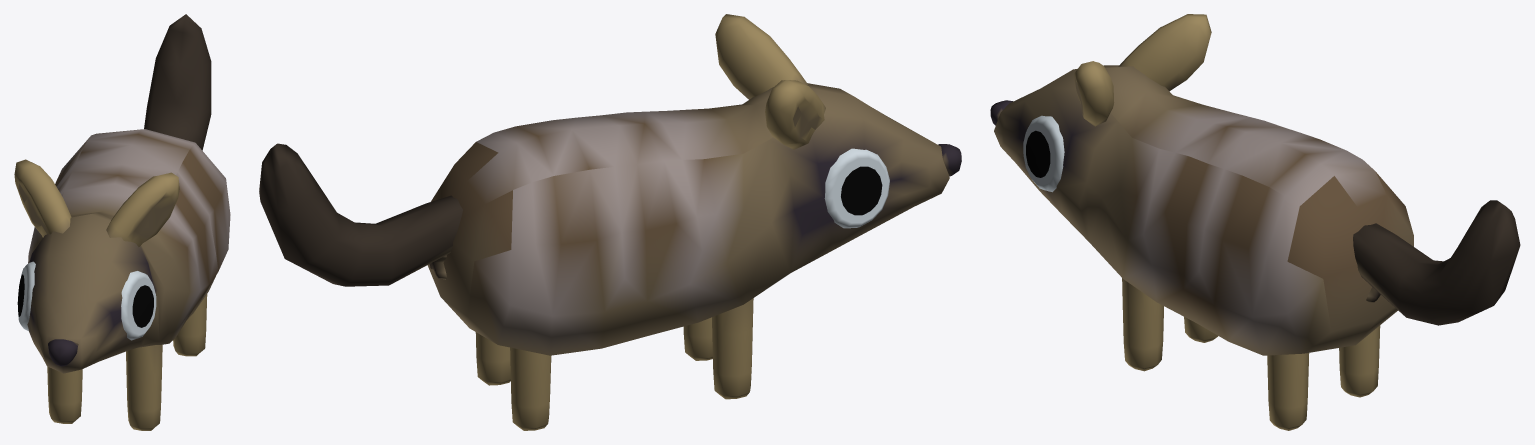
The model's file is Numbat.glb.
3 renders of one model, left to right at view 1: azimuth 30°, elevation 25°; view 2: azimuth 150°, elevation 25°; view 3: azimuth 270°, elevation 25°, orthographic. The views are drawn at different scales.
Parts seen in each view (by area): view 1: 109; view 2: 109; view 3: 109.
Boxes of the visible parts, bbox=[...] form: 109: bbox=[14, 14, 230, 430]; 109: bbox=[259, 14, 961, 430]; 109: bbox=[990, 14, 1520, 430].
Size of the model in its own units: 0.8346 by 0.573 by 0.9194.
